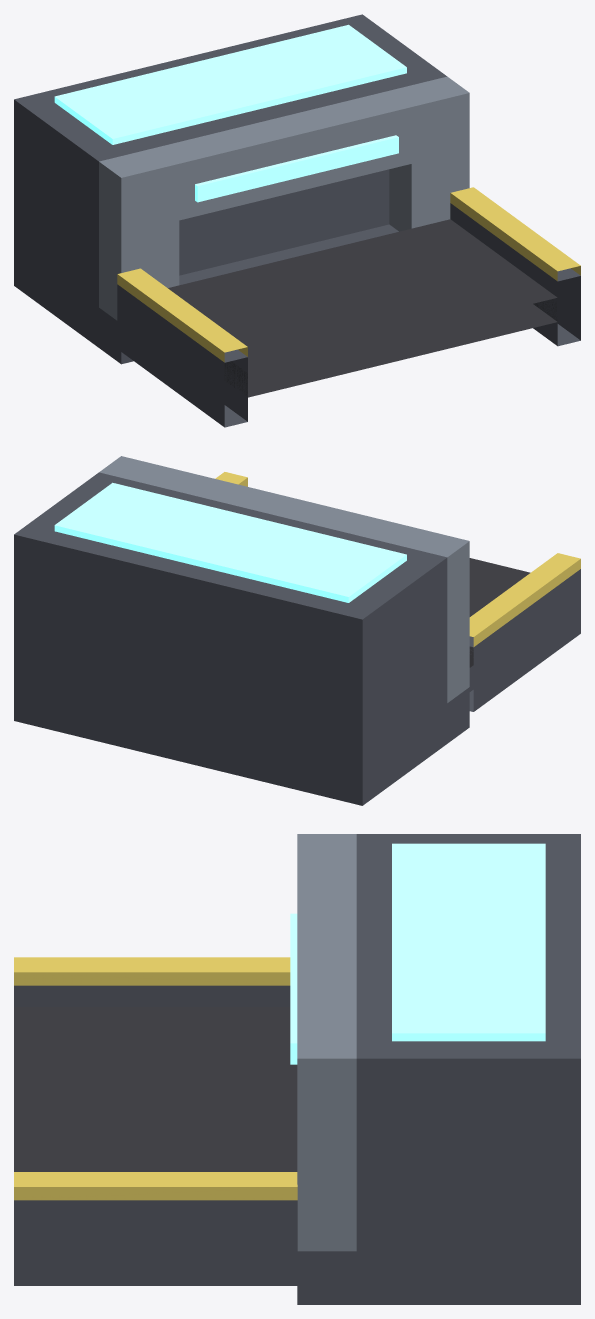
Rendered from esteira_tunel_entrada.glb.
3 views of the same model, one above another, from view 1: azimuth 30°, elevation 25°; view 2: azimuth 150°, elevation 25°; view 3: azimuth 270°, elevation 25° (orthographic). The views are drawn at different scales.
Visible parts, largest first — view 1: esteira_tunel_entrada; view 2: esteira_tunel_entrada; view 3: esteira_tunel_entrada.
Part boxes in pixels (bbox=[...]): esteira_tunel_entrada: bbox=[14, 14, 580, 427]; esteira_tunel_entrada: bbox=[14, 456, 580, 805]; esteira_tunel_entrada: bbox=[14, 834, 580, 1304].
Bounding box in the file's own units: 0.92 × 0.475 × 0.96.
